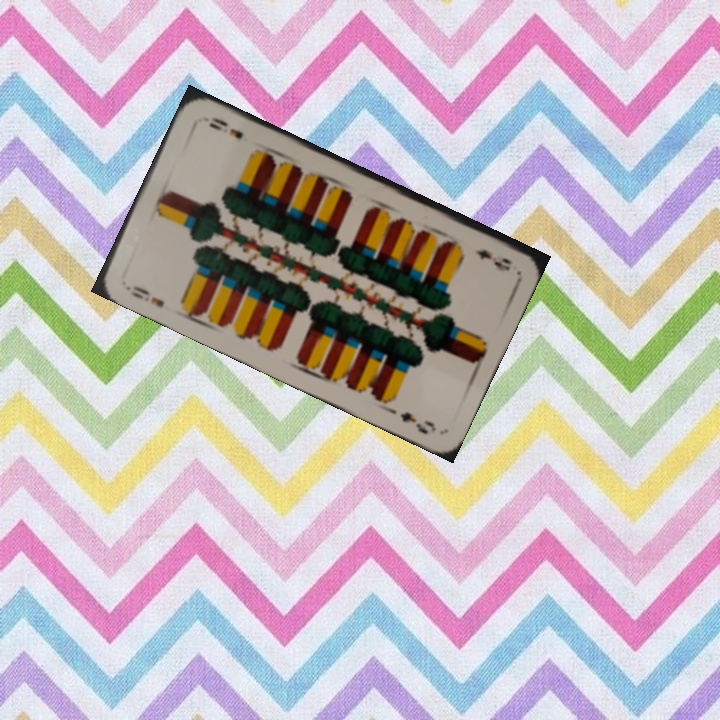E9: (121, 278, 167, 310), (470, 245, 514, 274)
